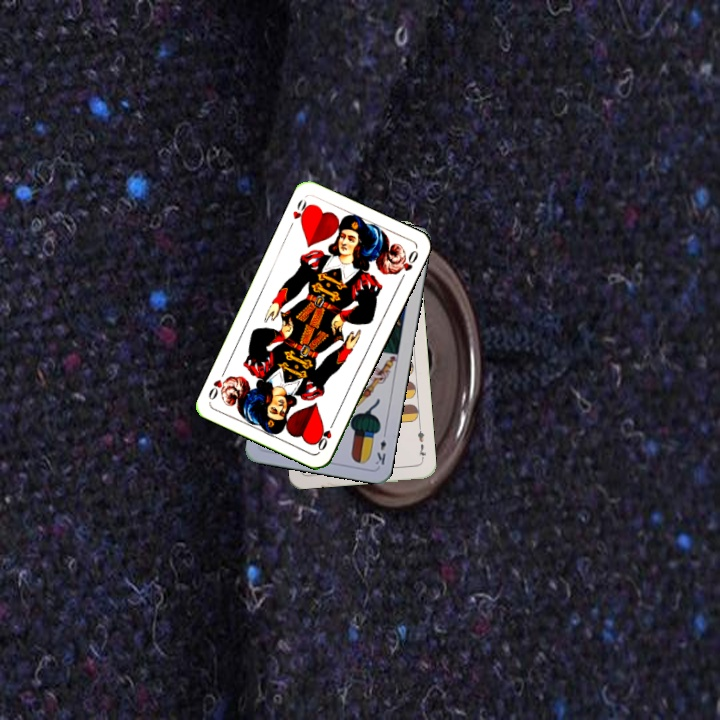E7: (414, 423, 428, 464)
EK: (371, 427, 389, 468)
HO: (285, 195, 313, 232), (314, 416, 338, 453)
